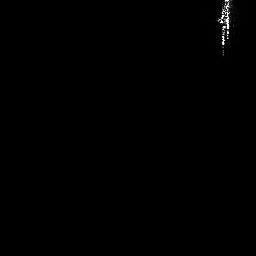ship: (218, 1, 230, 55)
